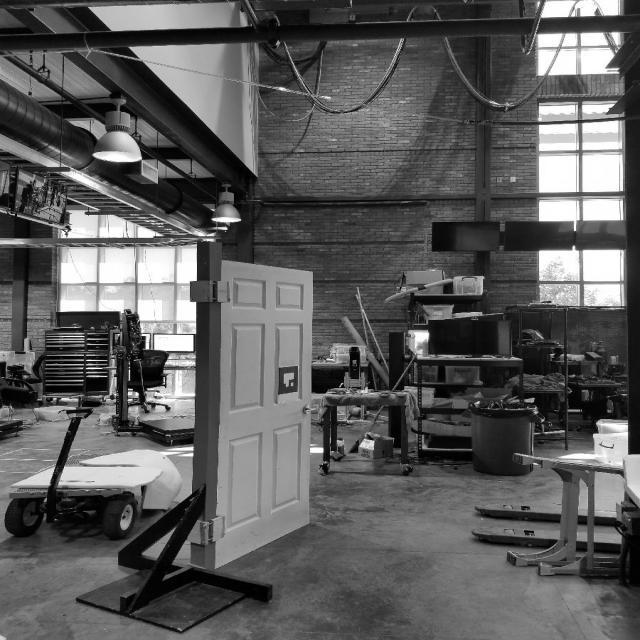door: (210, 257, 314, 571), (300, 403, 318, 416)
